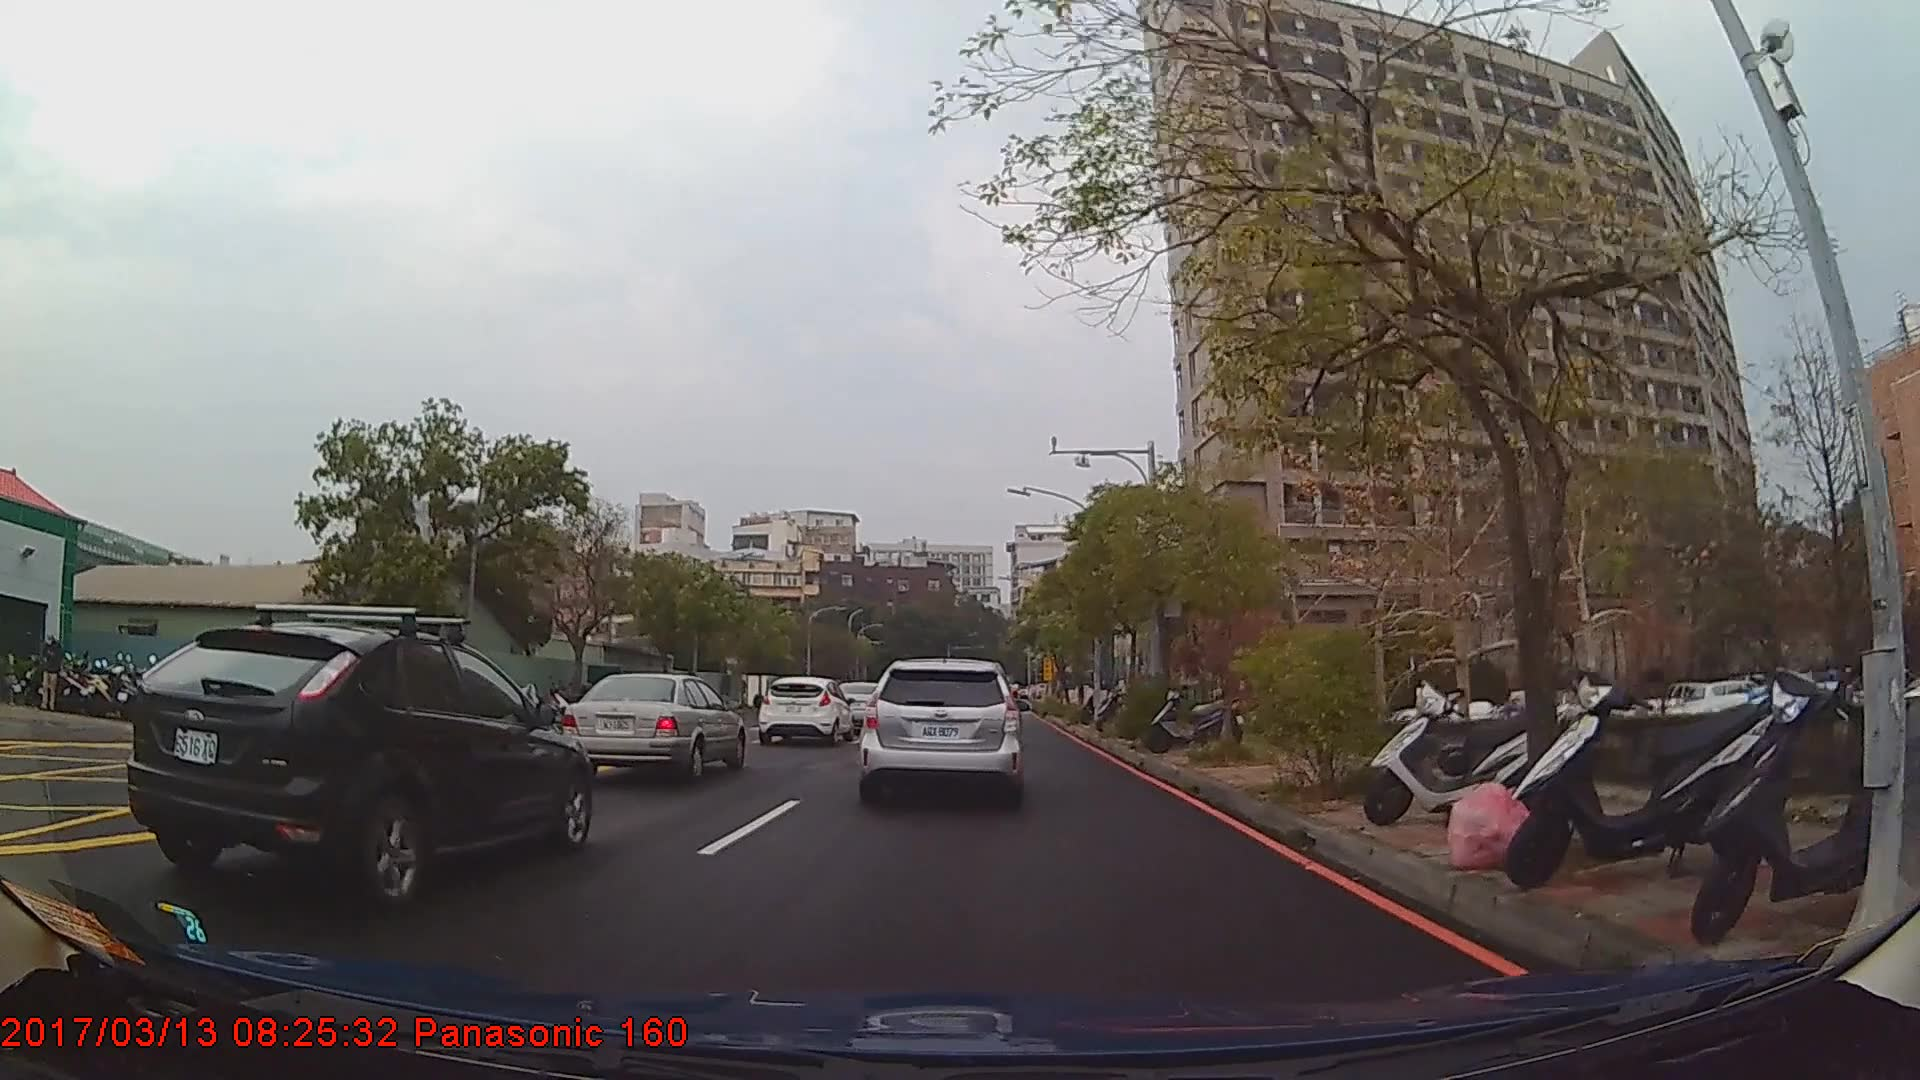pedestrian: (40, 632, 65, 712)
vehicle: (127, 620, 593, 907), (858, 654, 1020, 806), (556, 670, 746, 780), (754, 674, 852, 749)
